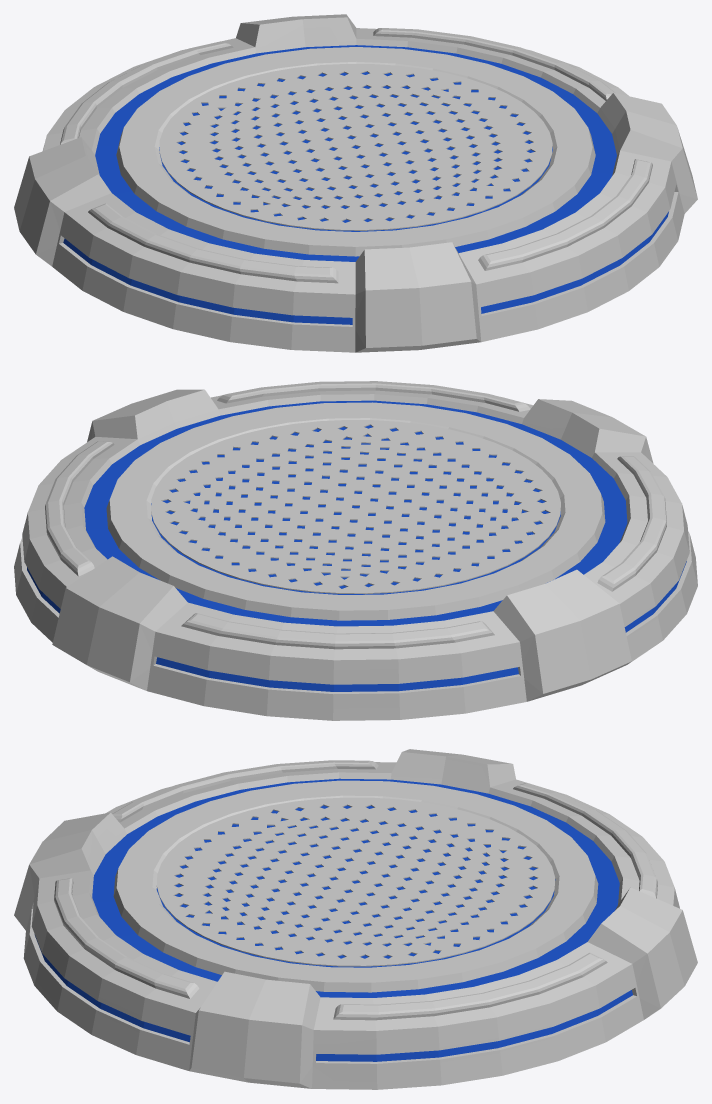
3 views of the same model, one above another, from view 1: azimuth 30°, elevation 25°; view 2: azimuth 150°, elevation 25°; view 3: azimuth 270°, elevation 25° (orthographic). The views are drawn at different scales.
Parts seen in each view (by area): view 1: tech_pedestal_Circle.002_tech_pedestal_mat.002, tech_pedestal_Circle.002_Material.001; view 2: tech_pedestal_Circle.002_tech_pedestal_mat.002, tech_pedestal_Circle.002_Material.001; view 3: tech_pedestal_Circle.002_tech_pedestal_mat.002, tech_pedestal_Circle.002_Material.001.
Part boxes in pixels (x1,y1,x2,y2): tech_pedestal_Circle.002_tech_pedestal_mat.002: (14,14,697,352); tech_pedestal_Circle.002_Material.001: (63,45,668,324); tech_pedestal_Circle.002_tech_pedestal_mat.002: (14,381,697,720); tech_pedestal_Circle.002_Material.001: (27,400,686,691); tech_pedestal_Circle.002_tech_pedestal_mat.002: (14,749,697,1089); tech_pedestal_Circle.002_Material.001: (34,778,632,1061).
Size of the model in its own units: 0.9326 by 0.1226 by 0.9326.
